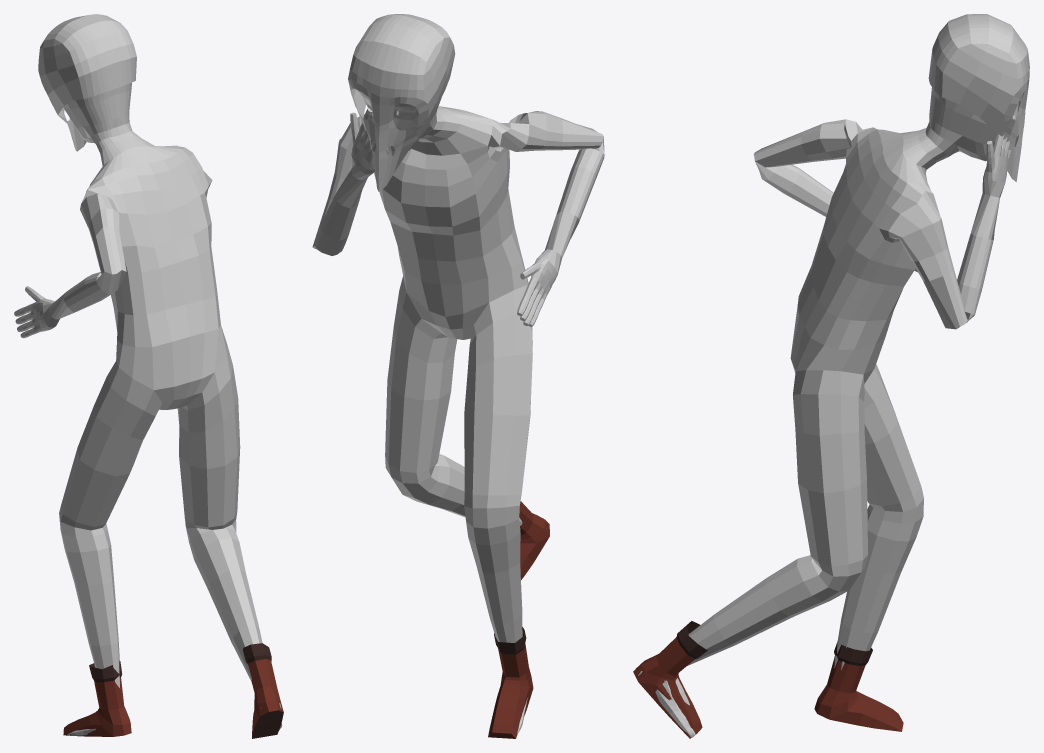
Rendered from correr_000144.obj.
The picture shows the model from 3 angles, left to right: view 1: azimuth 30°, elevation 25°; view 2: azimuth 150°, elevation 25°; view 3: azimuth 270°, elevation 25°; orthographic projection. The views are drawn at different scales.
Parts seen in each view (by area): view 1: Plane.002_Plane.001, Plane.004, Plane.003; view 2: Plane.002_Plane.001, Plane.004, Plane.003; view 3: Plane.002_Plane.001, Plane.004, Plane.003.
Part boxes in pixels (left/top/right/bottom): Plane.002_Plane.001: left=14, top=14, right=281, bottom=735; Plane.004: left=63, top=661, right=131, bottom=736; Plane.003: left=242, top=643, right=283, bottom=738; Plane.002_Plane.001: left=312, top=14, right=604, bottom=734; Plane.004: left=488, top=627, right=533, bottom=738; Plane.003: left=519, top=501, right=549, bottom=579; Plane.002_Plane.001: left=638, top=14, right=1029, bottom=737; Plane.004: left=814, top=641, right=903, bottom=731; Plane.003: left=633, top=621, right=707, bottom=738.
Bounding box in the file's own units: 1.94 × 6.73 × 3.3.
